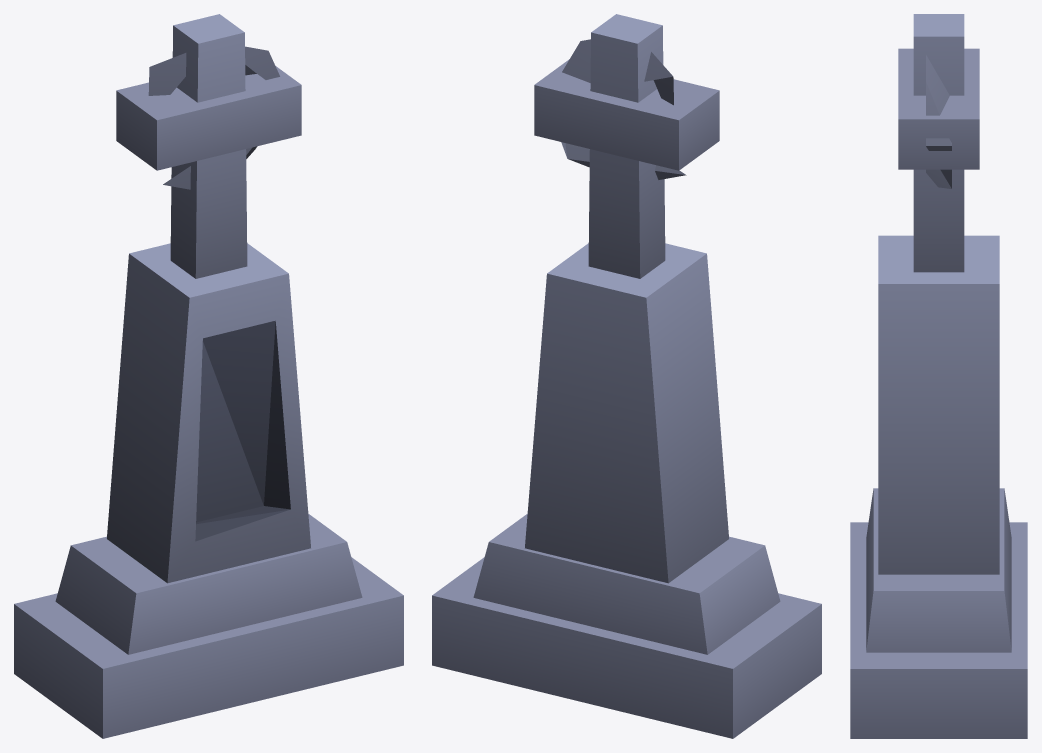
The model's file is K_gravestone-cross_lod.glb.
3 renders of one model, left to right at view 1: azimuth 30°, elevation 25°; view 2: azimuth 150°, elevation 25°; view 3: azimuth 270°, elevation 25°, orthographic.
Visible parts, largest first — view 1: gravestone-cross; view 2: gravestone-cross; view 3: gravestone-cross.
Boxes of the visible parts, x1=… form: gravestone-cross: x1=14, y1=14, x2=403, y2=738; gravestone-cross: x1=432, y1=14, x2=821, y2=738; gravestone-cross: x1=850, y1=14, x2=1027, y2=738.
Size of the model in its own units: 0.4499 by 0.915 by 0.23.
